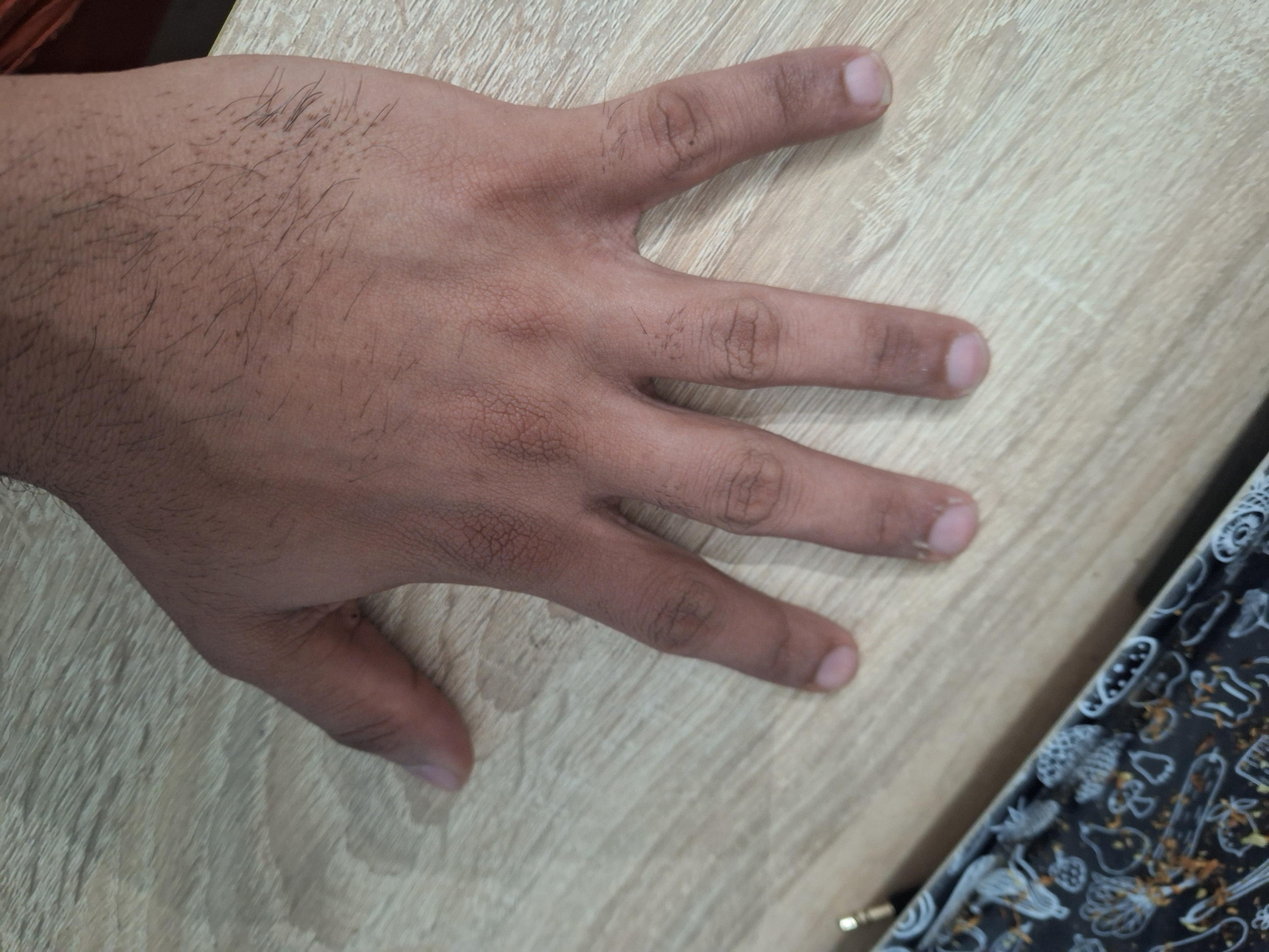Fingernail: (845, 51, 892, 111), (947, 332, 988, 396), (930, 505, 975, 557), (815, 645, 856, 689), (412, 766, 460, 794)
